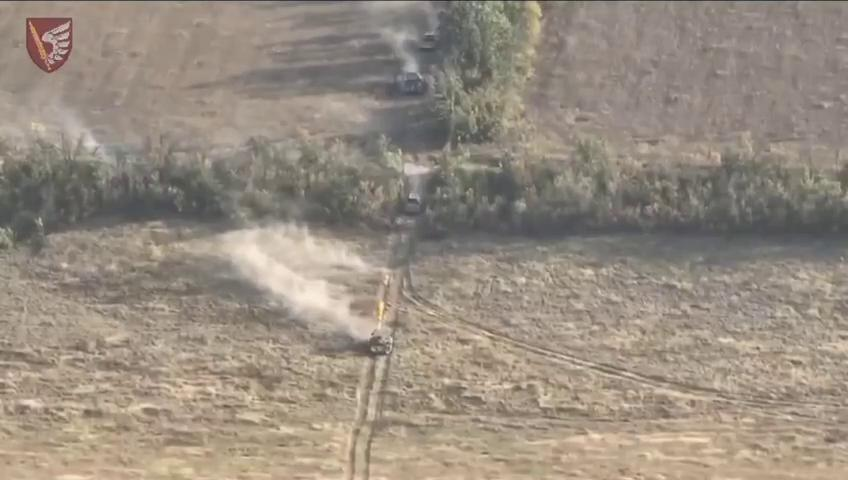tank: (367, 322, 396, 360), (401, 66, 428, 95), (418, 26, 439, 56), (405, 191, 424, 214)
